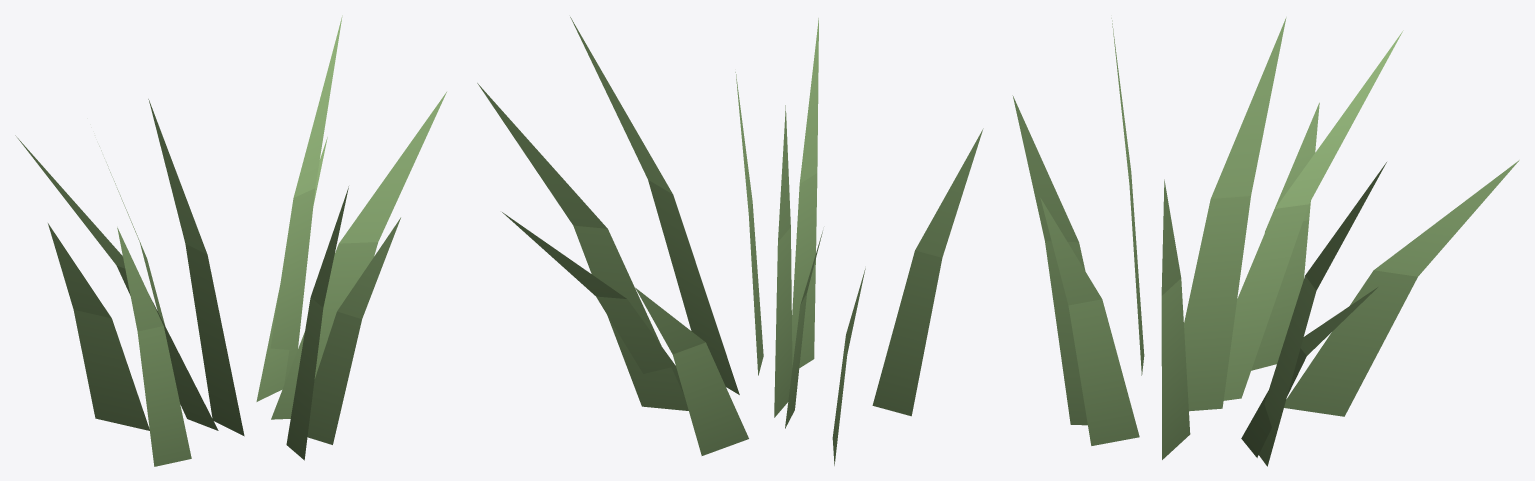
Rendered from grass_short.glb.
3 renders of one model, left to right at view 1: azimuth 30°, elevation 25°; view 2: azimuth 150°, elevation 25°; view 3: azimuth 270°, elevation 25°, orthographic. The views are drawn at different scales.
Visible parts, largest first — view 1: grass_short; view 2: grass_short; view 3: grass_short.
Part boxes in pixels (box(x1,y1,x2,y2)): grass_short: box(15, 15, 446, 466); grass_short: box(477, 17, 983, 465); grass_short: box(1012, 17, 1519, 466).
Size of the model in its own units: 0.3765 by 0.3186 by 0.3957.
